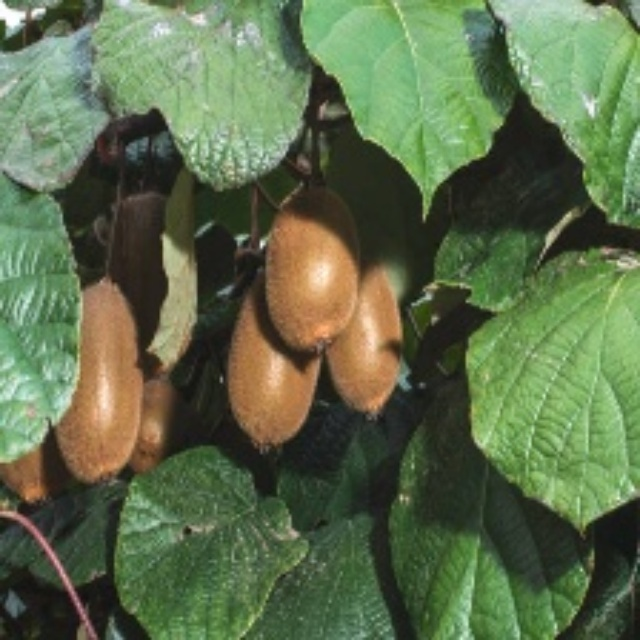kiwi: (38, 271, 163, 496), (212, 286, 322, 450), (267, 186, 362, 351), (328, 266, 407, 409)
